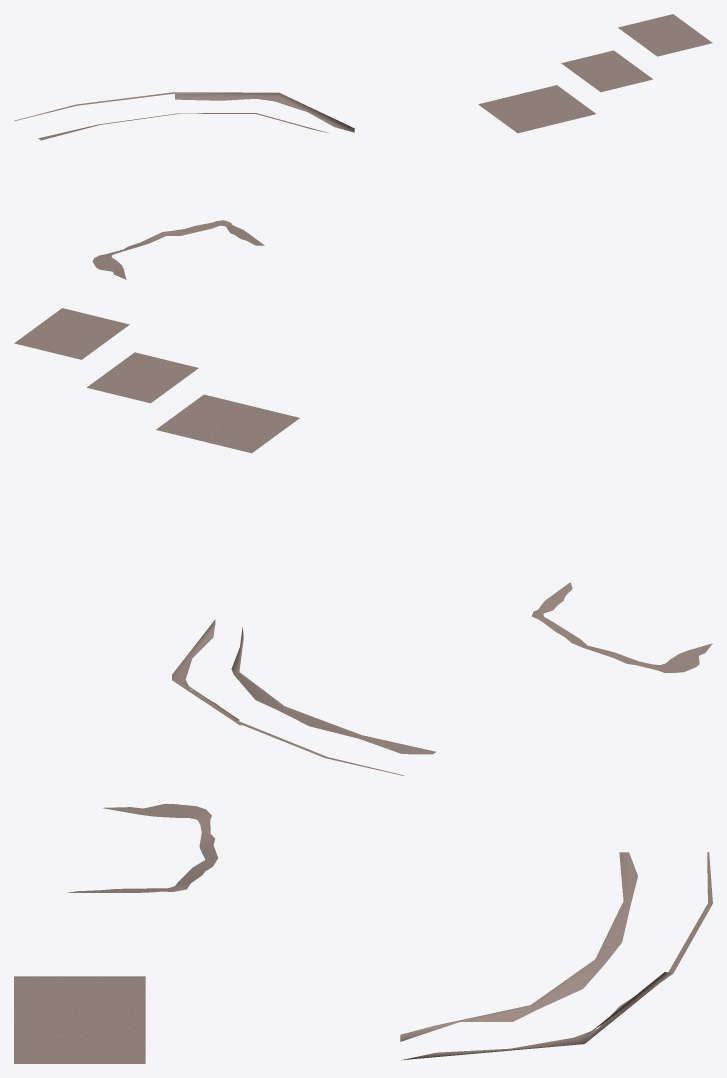
The model's file is kd_stage_136282_1_6.glb.
3 views of the same model, one above another, from view 1: azimuth 30°, elevation 25°; view 2: azimuth 150°, elevation 25°; view 3: azimuth 270°, elevation 25° (orthographic). The views are drawn at different scales.
Parts seen in each view (by area): view 1: kd_stage_136282_1_6; view 2: kd_stage_136282_1_6; view 3: kd_stage_136282_1_6.
Part boxes in pixels (x1,y1,x2,y2): kd_stage_136282_1_6: [14, 14, 712, 279]; kd_stage_136282_1_6: [14, 308, 712, 775]; kd_stage_136282_1_6: [14, 804, 712, 1063].
Size of the model in its own units: 54.43 by 11.06 by 34.91.
Materials: 1 (1 with a texture image).
